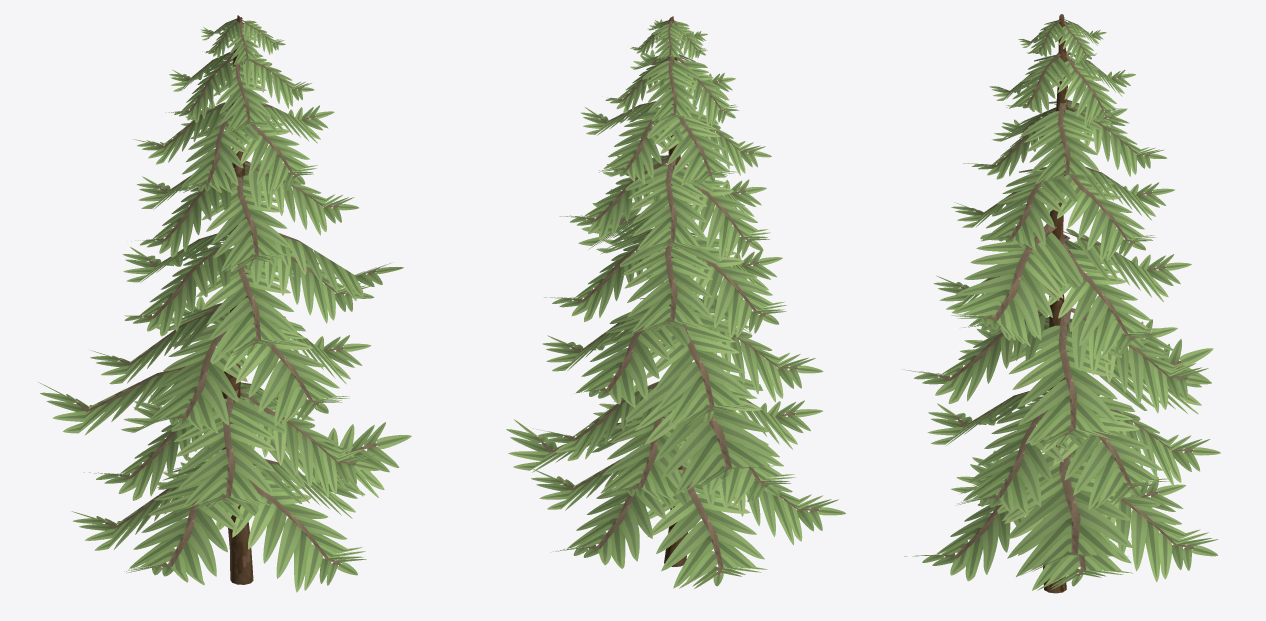
The model's file is Pine_4.gltf.
3 renders of one model, left to right at view 1: azimuth 30°, elevation 25°; view 2: azimuth 150°, elevation 25°; view 3: azimuth 270°, elevation 25°, orthographic. The views are drawn at different scales.
Visible parts, largest first — view 1: Pine_5; view 2: Pine_5; view 3: Pine_5.
Part boxes in pixels (<box>): Pine_5: <box>38,15,411,592</box>; Pine_5: <box>506,16,845,588</box>; Pine_5: <box>902,14,1220,593</box>.
Bounding box in the file's own units: 6.8 × 10.31 × 6.04.
Materials: 2 (2 with a texture image).
